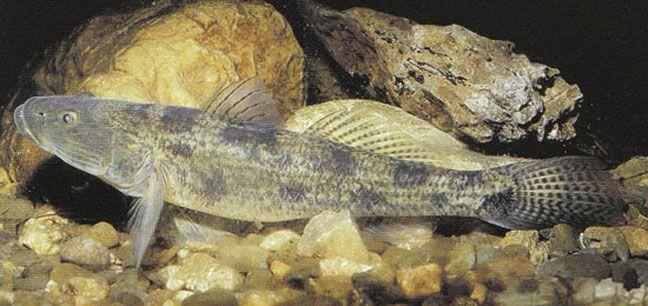Goby: (14, 73, 628, 273)
